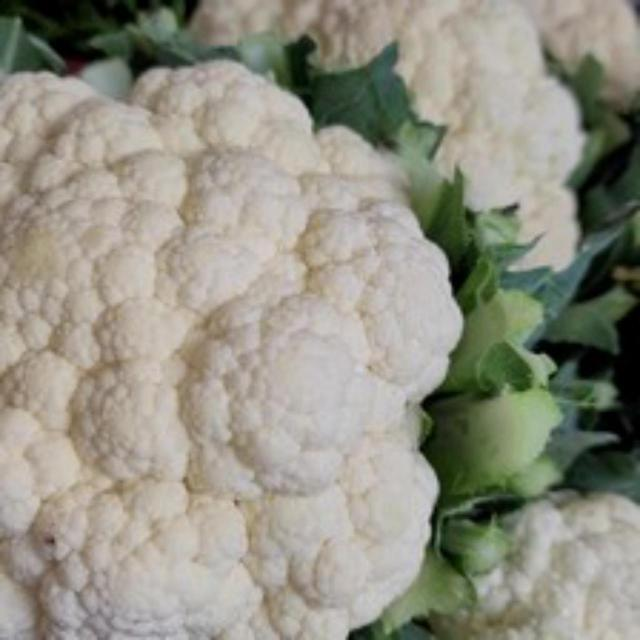cauliflower: (0, 51, 466, 637)
